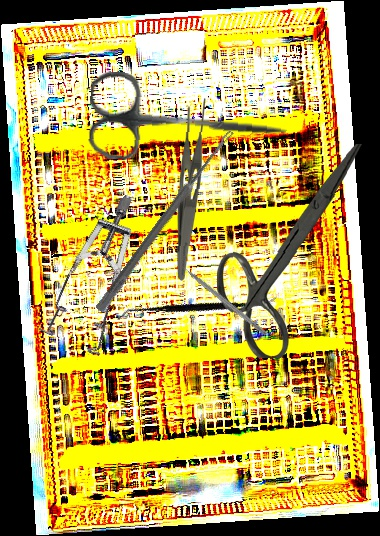Chopper: (174, 254, 272, 337)
Dressing Forceps: (175, 96, 210, 282)
Iris Scissors: (214, 144, 366, 359), (86, 70, 290, 171)
Spatula Surgical: (115, 234, 279, 383)
Speculum: (5, 192, 196, 376)
Surgical Spoon: (95, 127, 235, 314)
